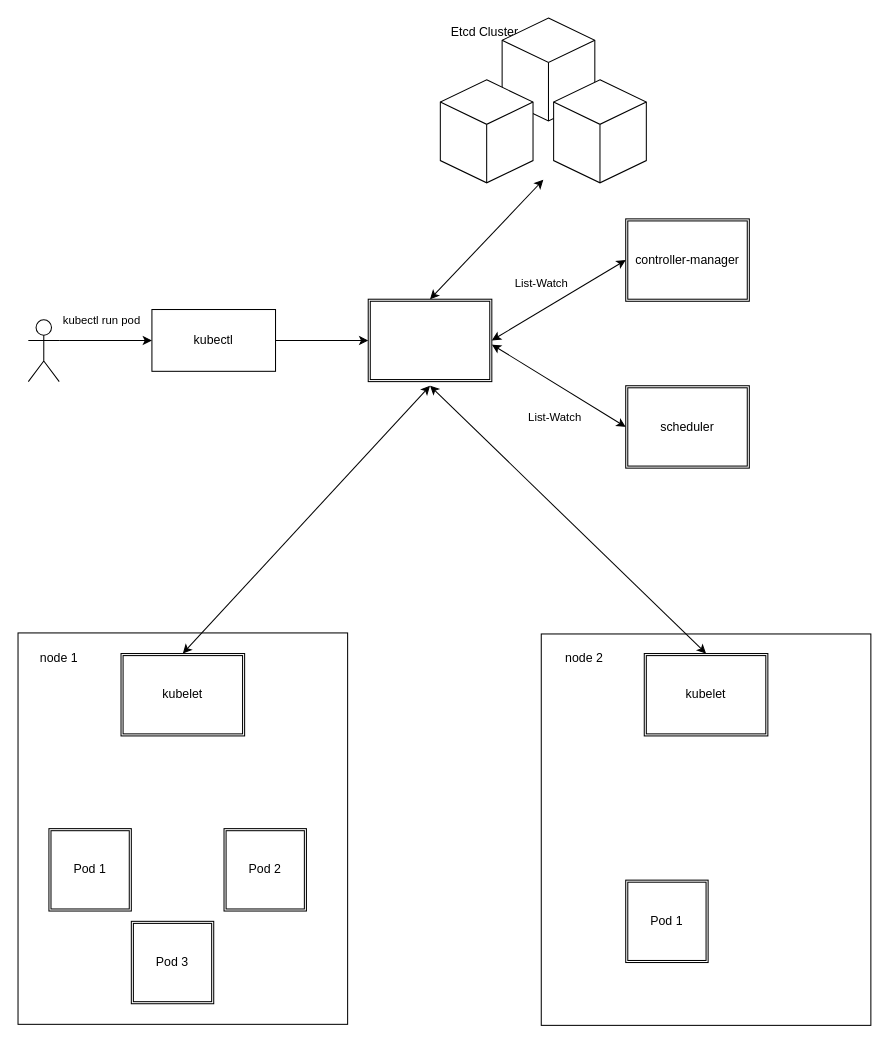
Image size: 889x1043. Some labels were removed from this diagram. Here are the shapes that lost their labels. From the top down, the box of each, then its label:
(27, 319, 59, 382): Actor
(367, 298, 492, 382): api-server
